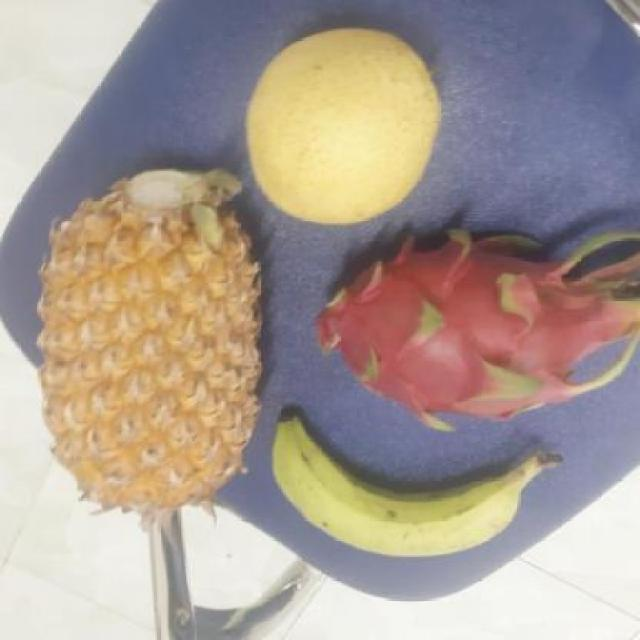banana: (265, 416, 532, 558)
dragon fruit: (292, 225, 612, 428)
pear: (242, 28, 443, 224)
pineapple: (32, 161, 263, 524)
